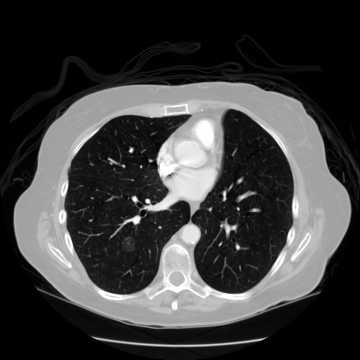nodule: (121, 236, 137, 252)
